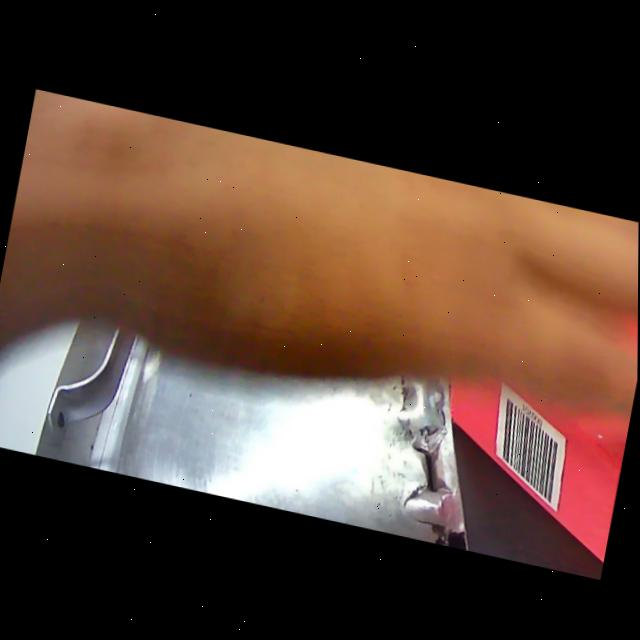redBox: (415, 263, 639, 567)
